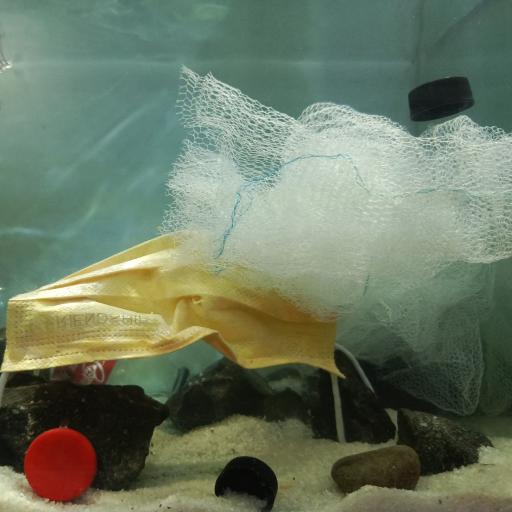bottle_cap: (23, 426, 95, 502), (216, 456, 278, 512), (408, 75, 475, 122)
mask: (0, 220, 367, 390)
net: (155, 60, 512, 415)
plastic_bottle: (0, 277, 191, 394)
